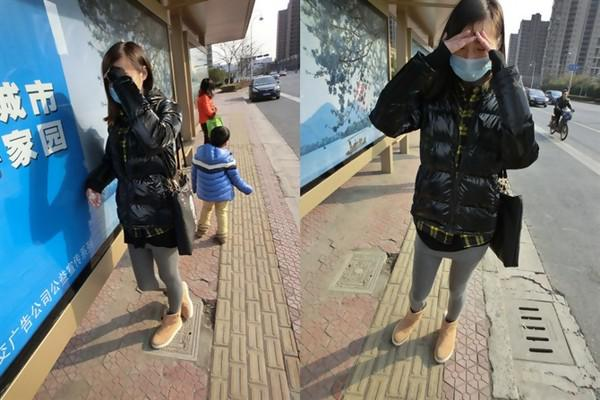OK: (448, 33, 496, 81)
